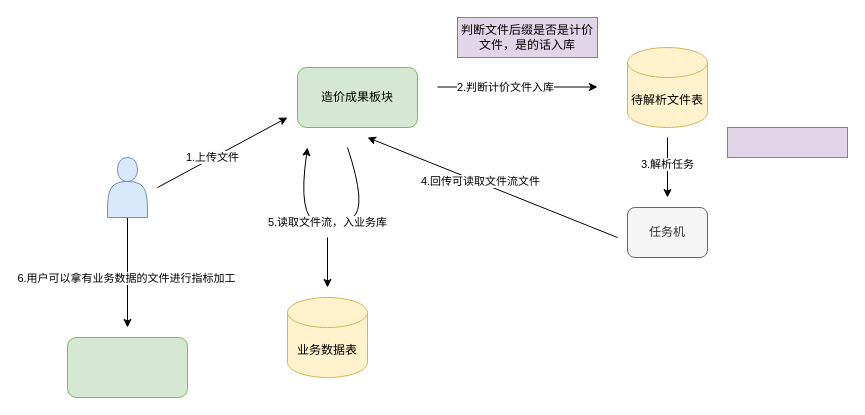
Some shapes in this 865 by 415 pixel diagram are drawn without their labels. Each missing label, with the centre of its shape:
拉取解析任务: the point at 787,142
指标加工板块: the point at 127,367
